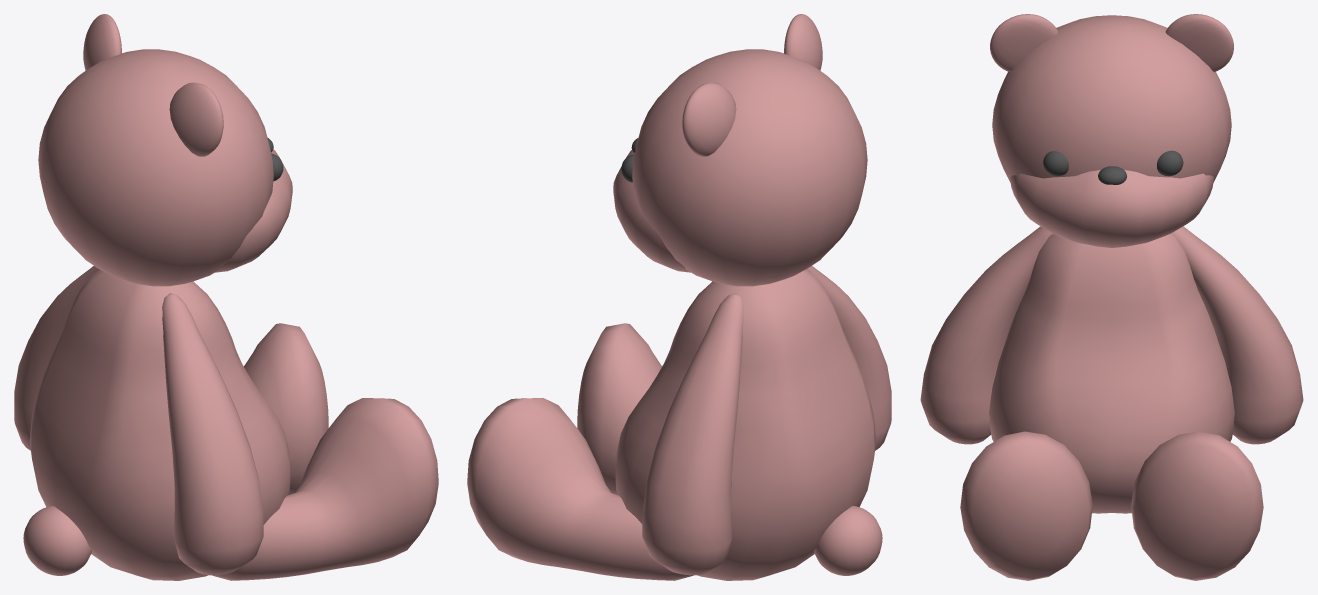
Rendered from sm_toy.fbx.
The picture shows the model from 3 angles, left to right: view 1: azimuth 30°, elevation 25°; view 2: azimuth 150°, elevation 25°; view 3: azimuth 270°, elevation 25°; orthographic projection. The views are drawn at different scales.
Parts seen in each view (by area): view 1: pSphere70, pSphere72, pCylinder36, pCylinder35, pSphere73, pSphere78, pSphere74; view 2: pSphere70, pSphere72, pCylinder36, pCylinder35, pSphere73, pSphere78, pSphere74; view 3: pSphere70, pCylinder36, pSphere72, pCylinder35, pSphere74, pSphere73, pSphere77, pSphere75.
Part boxes in pixels (x1,y1,x2,y2): pSphere70: (29,269,290,580); pSphere72: (38,49,273,286); pCylinder36: (212,323,438,580); pCylinder35: (14,266,263,575); pSphere73: (83,14,223,156); pSphere78: (23,506,91,575); pSphere74: (215,149,292,272); pSphere70: (615,269,876,580); pSphere72: (632,49,867,286); pCylinder36: (467,323,693,580); pCylinder35: (642,266,891,575); pSphere73: (682,14,822,156); pSphere78: (814,506,882,575); pSphere74: (613,150,690,272); pSphere70: (989,233,1234,513); pCylinder36: (960,431,1263,580); pSphere72: (992,15,1231,182); pCylinder35: (920,226,1303,444); pSphere74: (1010,170,1213,247); pSphere73: (990,14,1233,71); pSphere77: (1157,150,1183,176); pSphere75: (1043,151,1068,176).
Size of the model in its own units: 34.13 by 49.37 by 35.3.
